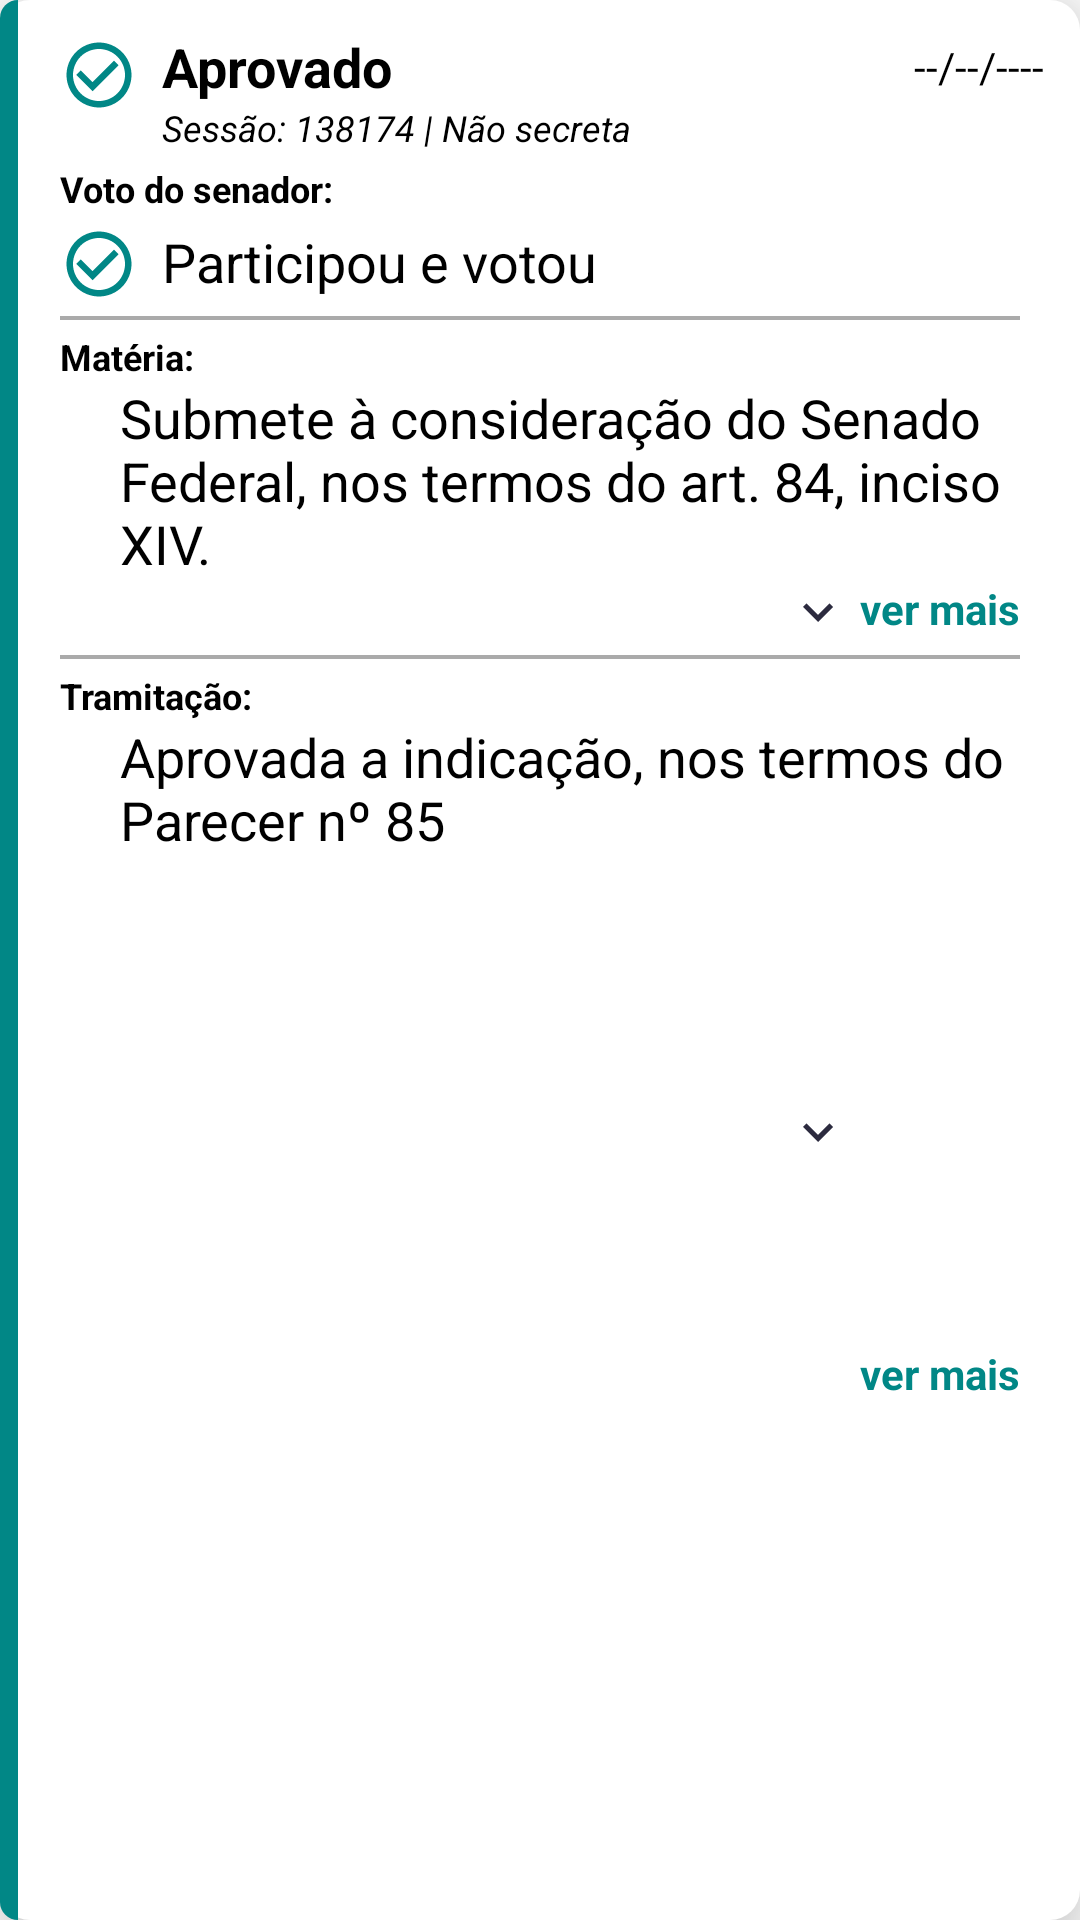

Screen size 1080 x 1920. Icon name, then its center in pixels as point (x, y):
check: point (99, 75), point (99, 264)
down: point (818, 612), point (818, 1132)
